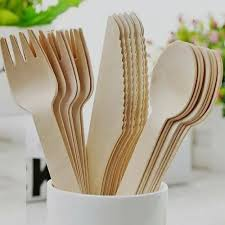Wooden Utensils: (2, 22, 96, 185), (142, 27, 214, 191), (85, 8, 140, 199)
